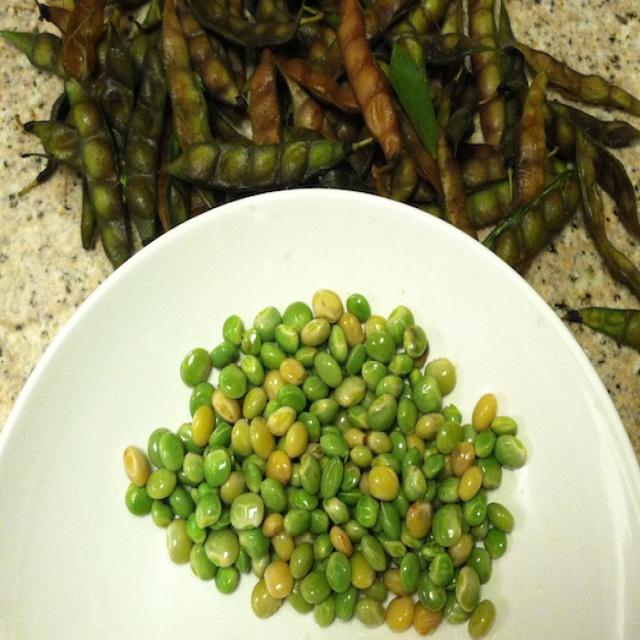Peas: (165, 310, 484, 613)
